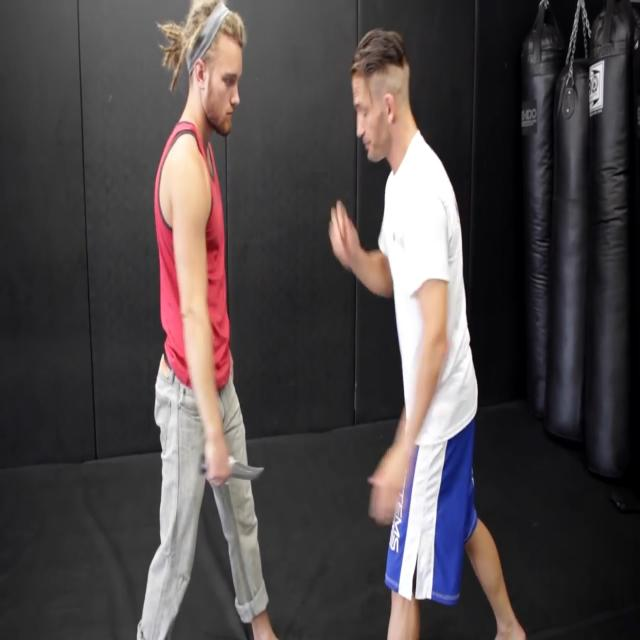knife: (230, 456, 268, 486)
